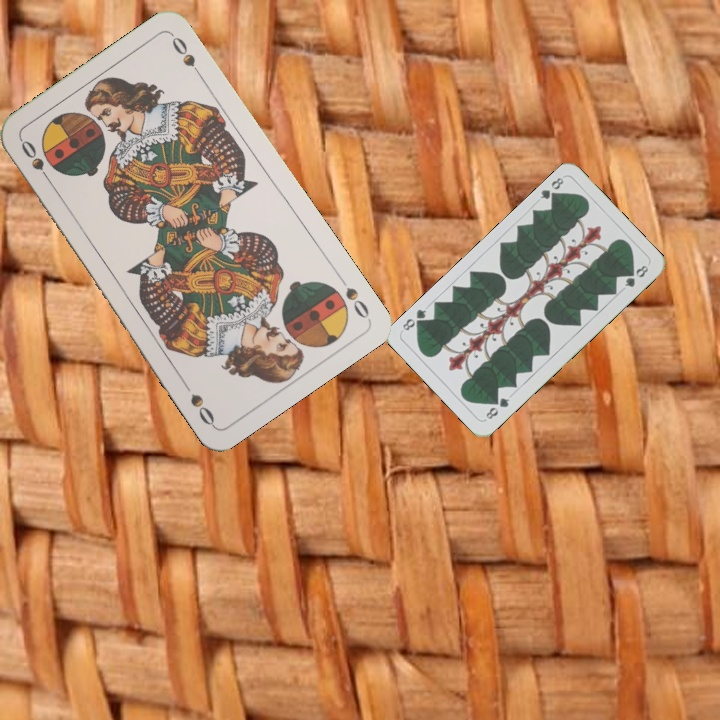G8: (536, 173, 566, 204), (482, 393, 512, 422)
SO: (16, 136, 56, 188), (333, 270, 372, 322)
